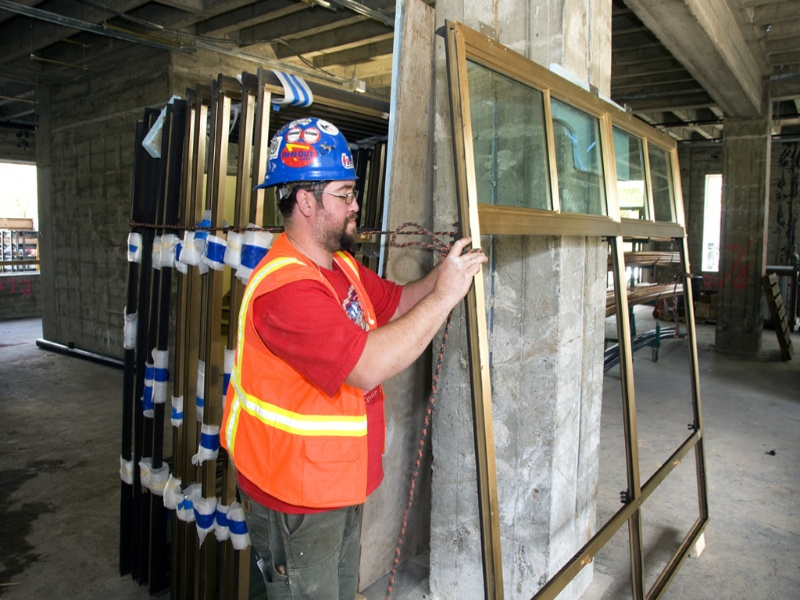helmet: (257, 116, 361, 182)
jacket: (235, 233, 375, 507)
